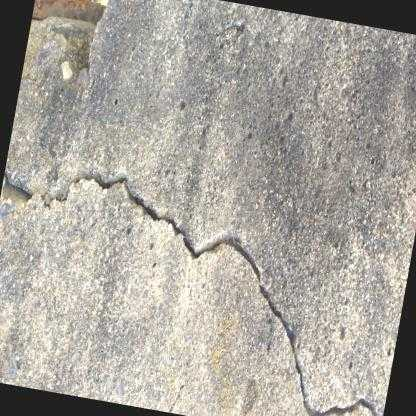crack: (3, 169, 377, 416)
